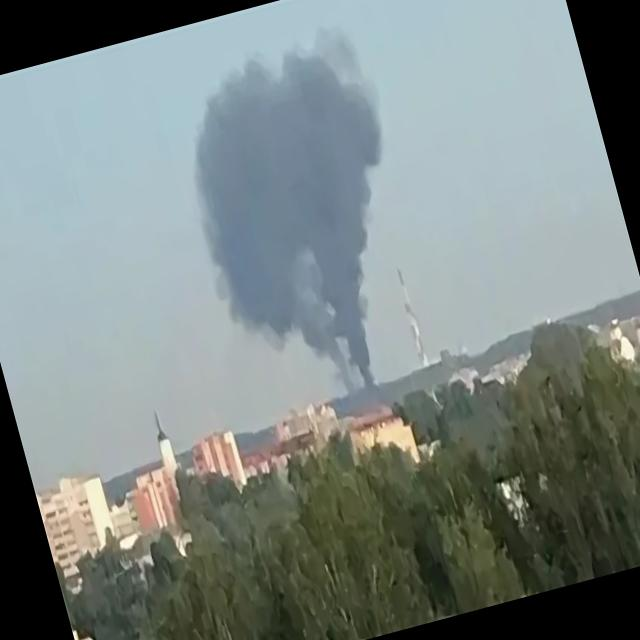Smoke: (159, 24, 438, 415)
